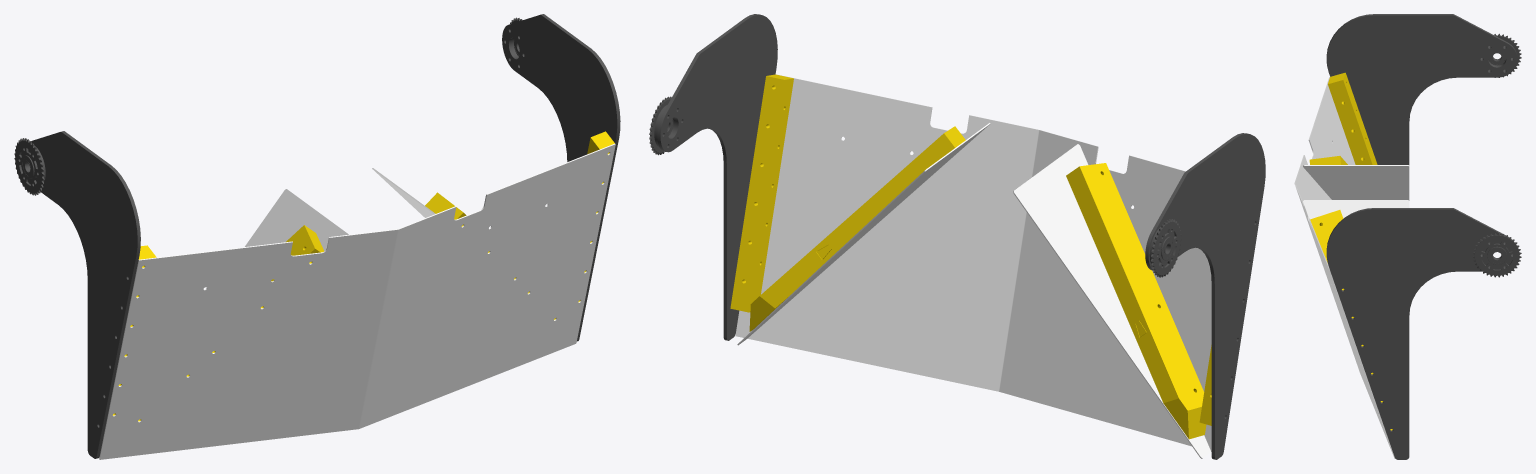
The picture shows the model from 3 angles, left to right: view 1: azimuth 30°, elevation 25°; view 2: azimuth 150°, elevation 25°; view 3: azimuth 270°, elevation 25°; orthographic projection. The views are drawn at different scales.
Parts seen in each view (by area): view 1: NAUO3, NAUO2, NAUO1, NAUO6, NAUO16, NAUO8; view 2: NAUO3, NAUO2, NAUO1, NAUO6, NAUO8, NAUO4, NAUO9, NAUO10, NAUO11, NAUO5, NAUO16; view 3: NAUO1, NAUO2, NAUO3, NAUO6, NAUO7, NAUO12, NAUO5, NAUO10, NAUO8, NAUO14.
Boxes of the visible parts, x1,y1,x2,y2 form: NAUO3: (99, 143, 615, 459); NAUO2: (31, 131, 140, 458); NAUO1: (502, 14, 620, 341); NAUO6: (245, 189, 348, 250); NAUO16: (14, 138, 44, 195); NAUO8: (212, 225, 324, 352); NAUO3: (735, 74, 1211, 451); NAUO2: (1145, 133, 1265, 459); NAUO1: (657, 14, 777, 340); NAUO6: (1013, 144, 1210, 458); NAUO8: (1066, 163, 1170, 337); NAUO4: (730, 74, 793, 312); NAUO9: (1130, 313, 1206, 439); NAUO10: (816, 126, 965, 259); NAUO11: (749, 239, 834, 331); NAUO5: (737, 123, 990, 345); NAUO16: (1151, 219, 1181, 277); NAUO1: (1326, 208, 1512, 459); NAUO2: (1326, 14, 1517, 164); NAUO3: (1294, 77, 1395, 458); NAUO6: (1303, 165, 1409, 200); NAUO7: (1328, 72, 1377, 164); NAUO12: (1473, 233, 1521, 277); NAUO5: (1303, 200, 1409, 219); NAUO10: (1310, 210, 1343, 262); NAUO8: (1309, 156, 1347, 164); NAUO14: (1487, 246, 1506, 264).
Size of the model in its own units: 0.7454 by 0.4513 by 0.3559.
